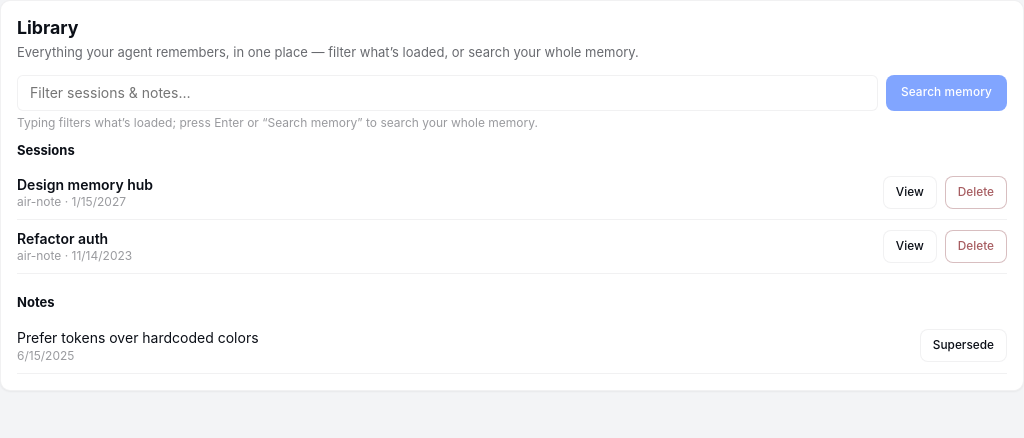
it: LibraryPanel › pressing Enter in the search box runs recall (not just the button)
Type "auth" into the field named "Filter your library" at {"x": 447, "y": 93}, box left=17, top=75, right=878, bottom=110
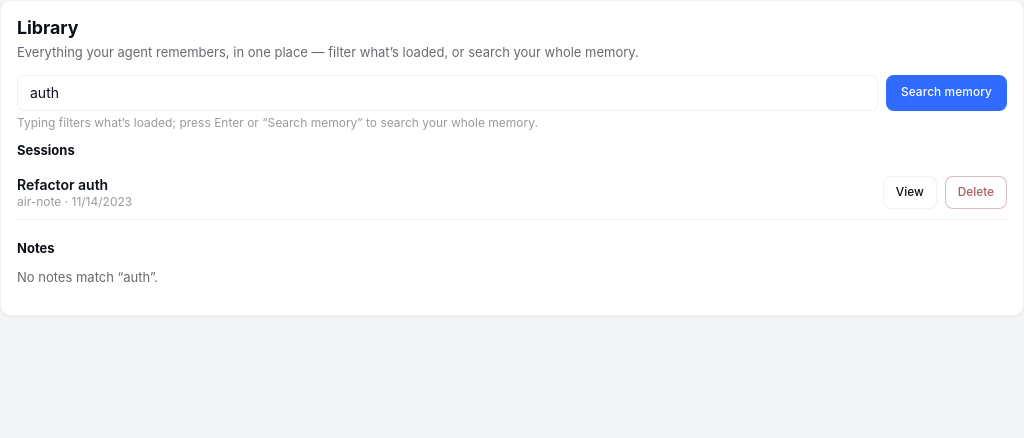
Press Enter in the field named "Filter your library", box left=17, top=75, right=878, bottom=110
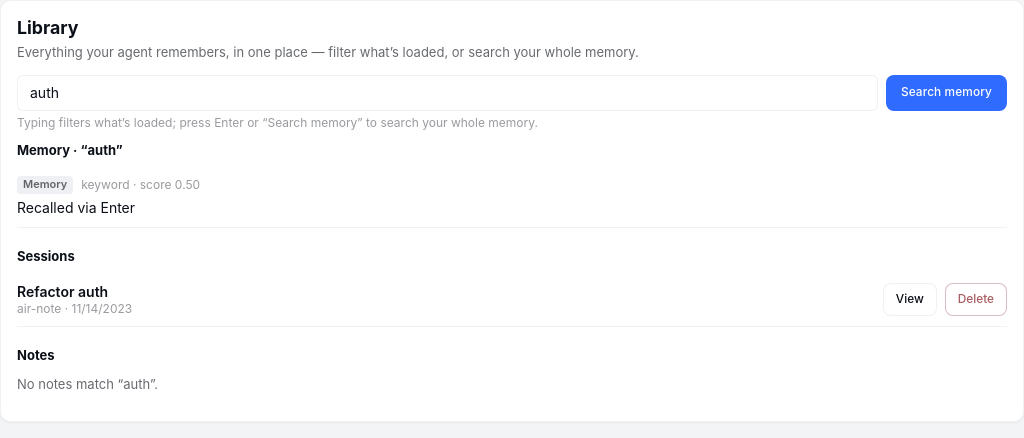
Result: the text "Recalled via Enter" is shown at left=17, top=199, right=135, bottom=216
